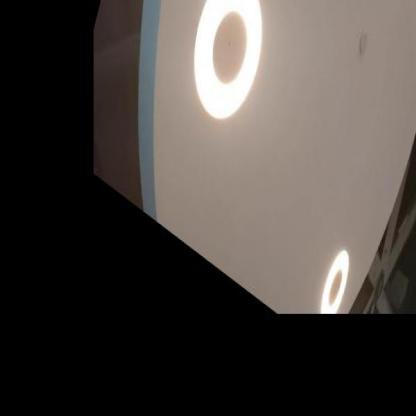light_on: (164, 0, 286, 173), (306, 218, 364, 347)
